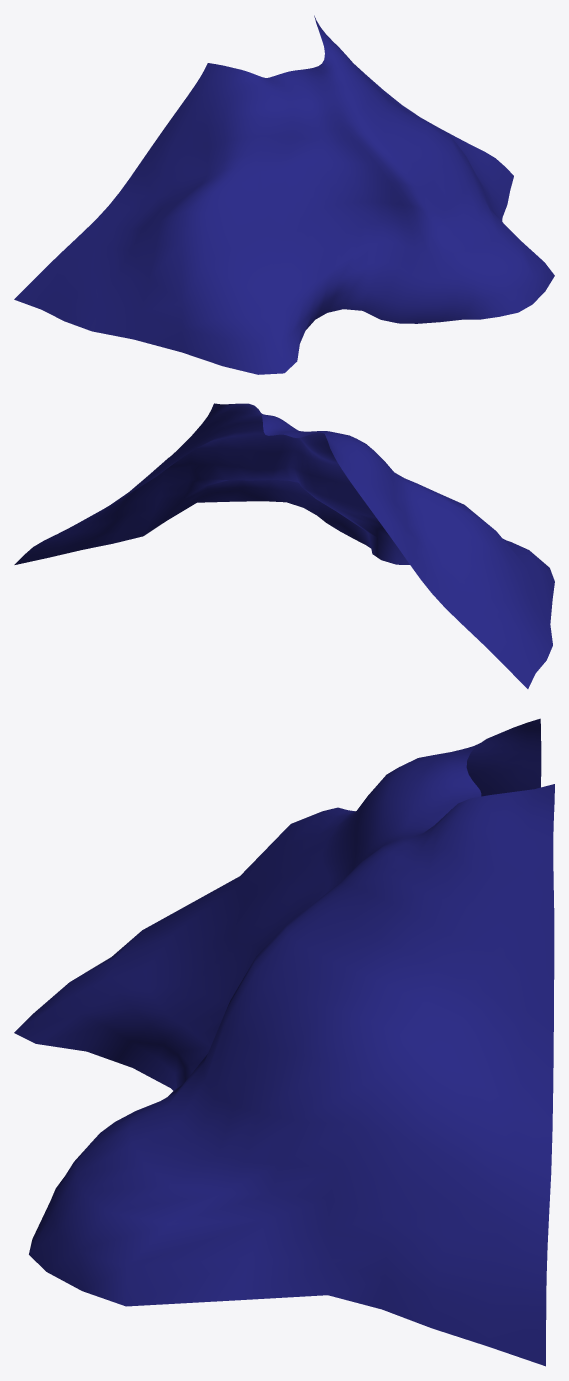
File: Pile_pipemain_v2.FBX
The picture shows the model from 3 angles, top to bottom: view 1: azimuth 30°, elevation 25°; view 2: azimuth 150°, elevation 25°; view 3: azimuth 270°, elevation 25°; orthographic projection. The views are drawn at different scales.
Visible parts, largest first — view 1: Plane004; view 2: Plane004; view 3: Plane004.
Part boxes in pixels (x1,y1,x2,y2): Plane004: [14, 15, 554, 374]; Plane004: [14, 403, 554, 688]; Plane004: [14, 718, 554, 1366].
Size of the model in its own units: 594 by 246 by 290.
